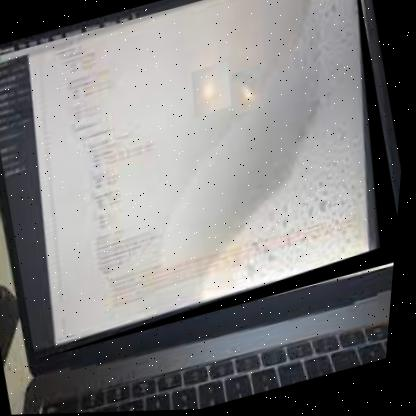fade: (0, 0, 415, 364)
spot: (198, 72, 249, 128), (239, 78, 283, 128)
